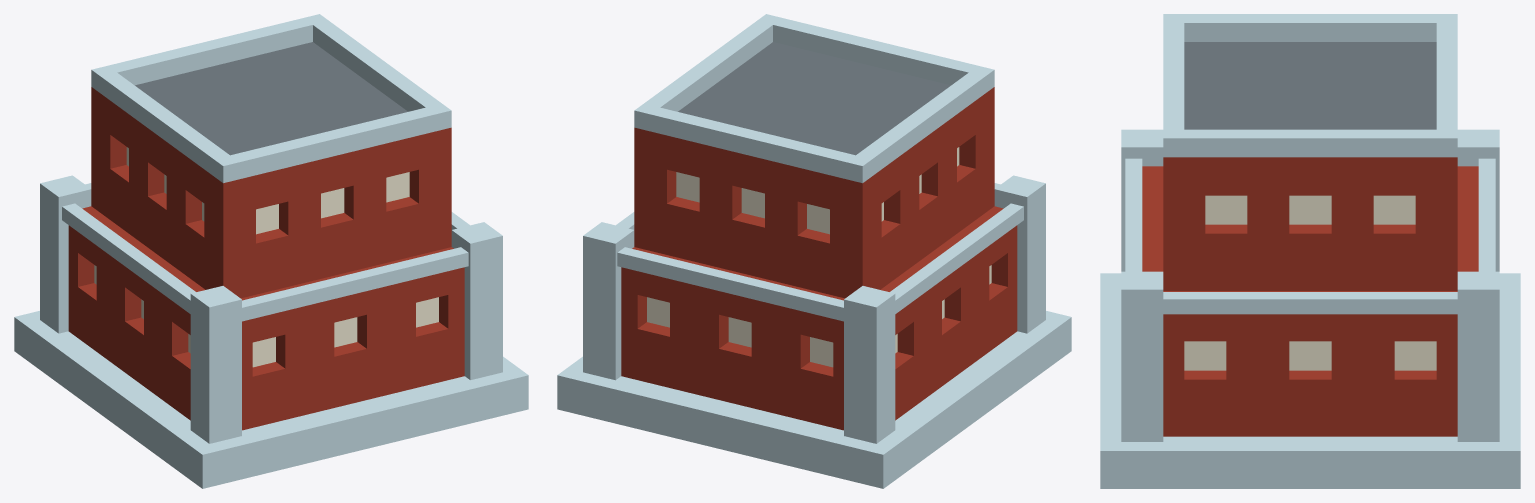
Rendered from Building_6_Base (Red).obj.
The picture shows the model from 3 angles, left to right: view 1: azimuth 30°, elevation 25°; view 2: azimuth 150°, elevation 25°; view 3: azimuth 270°, elevation 25°; orthographic projection. The views are drawn at different scales.
Visible parts, largest first — view 1: Building_6_Base_(Red); view 2: Building_6_Base_(Red); view 3: Building_6_Base_(Red).
Part boxes in pixels (x1,y1,x2,y2): Building_6_Base_(Red): (14,14,528,488); Building_6_Base_(Red): (557,14,1071,488); Building_6_Base_(Red): (1100,14,1520,488).
Size of the model in its own units: 2 by 1.7 by 2.
